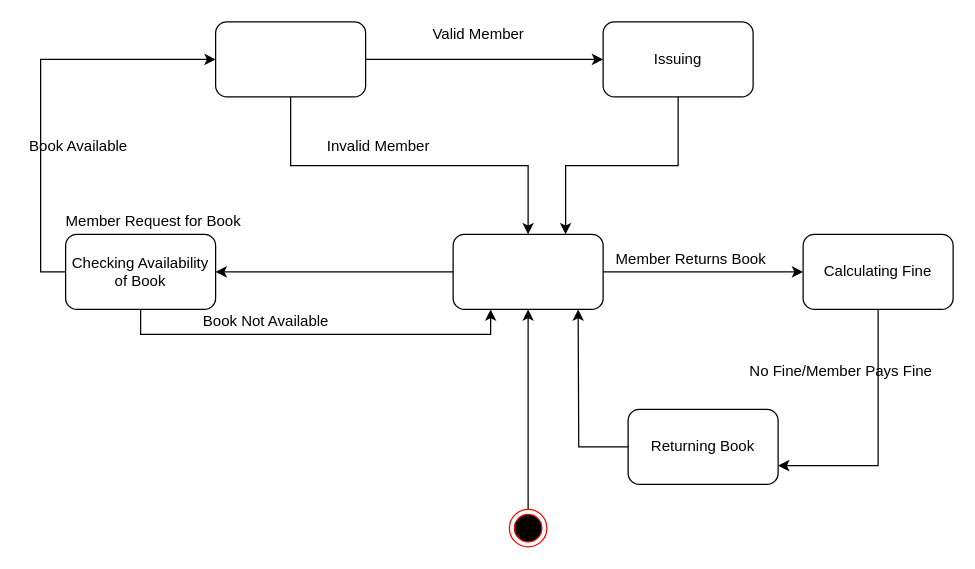
The diagram is 975 pixels wide and 569 high, and some of its shapes have lost their labels. Each missing label, with the centre of its shape:
"Idle" goes at (x=527, y=271).
"Validate Member" goes at (x=290, y=59).
